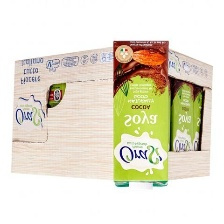carton: (107, 32, 187, 198)
